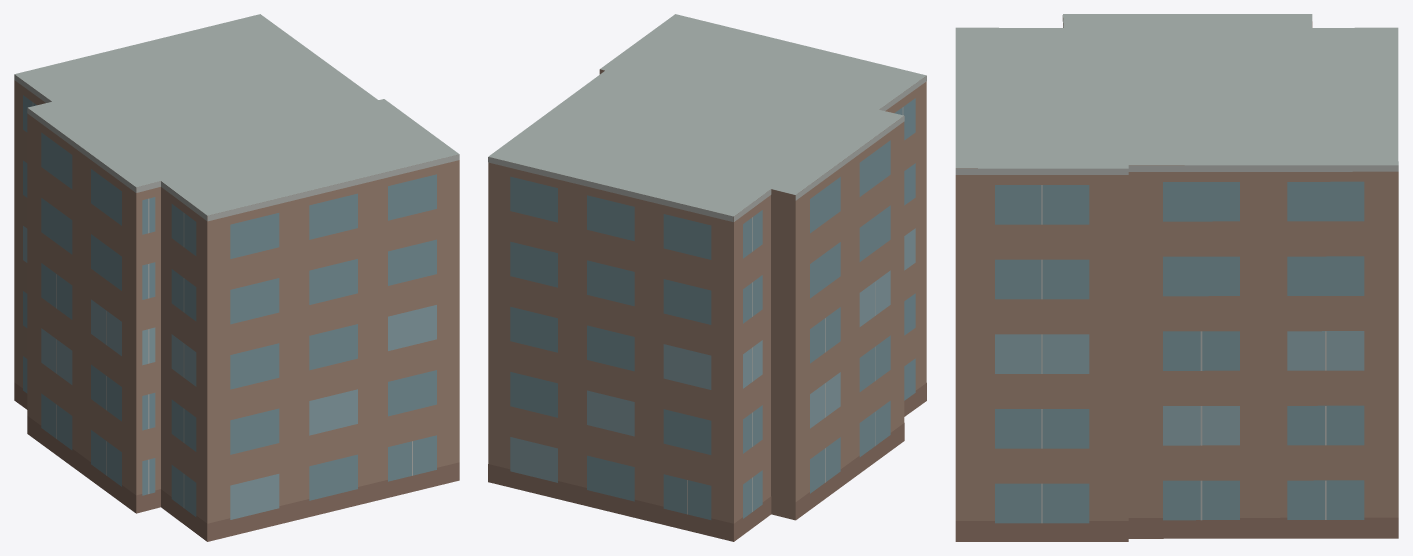
Rendered from survey-upis-32494956.glb.
3 renders of one model, left to right at view 1: azimuth 30°, elevation 25°; view 2: azimuth 150°, elevation 25°; view 3: azimuth 270°, elevation 25°, orthographic. The views are drawn at different scales.
Visible parts, largest first — view 1: survey-upis-32494956.tmp; view 2: survey-upis-32494956.tmp; view 3: survey-upis-32494956.tmp.
Part boxes in pixels (box(x1,y1,x2,y2)): survey-upis-32494956.tmp: box(14, 14, 459, 541); survey-upis-32494956.tmp: box(488, 14, 926, 541); survey-upis-32494956.tmp: box(955, 14, 1398, 541).
Size of the model in its own units: 12.31 by 13.85 by 14.91.
